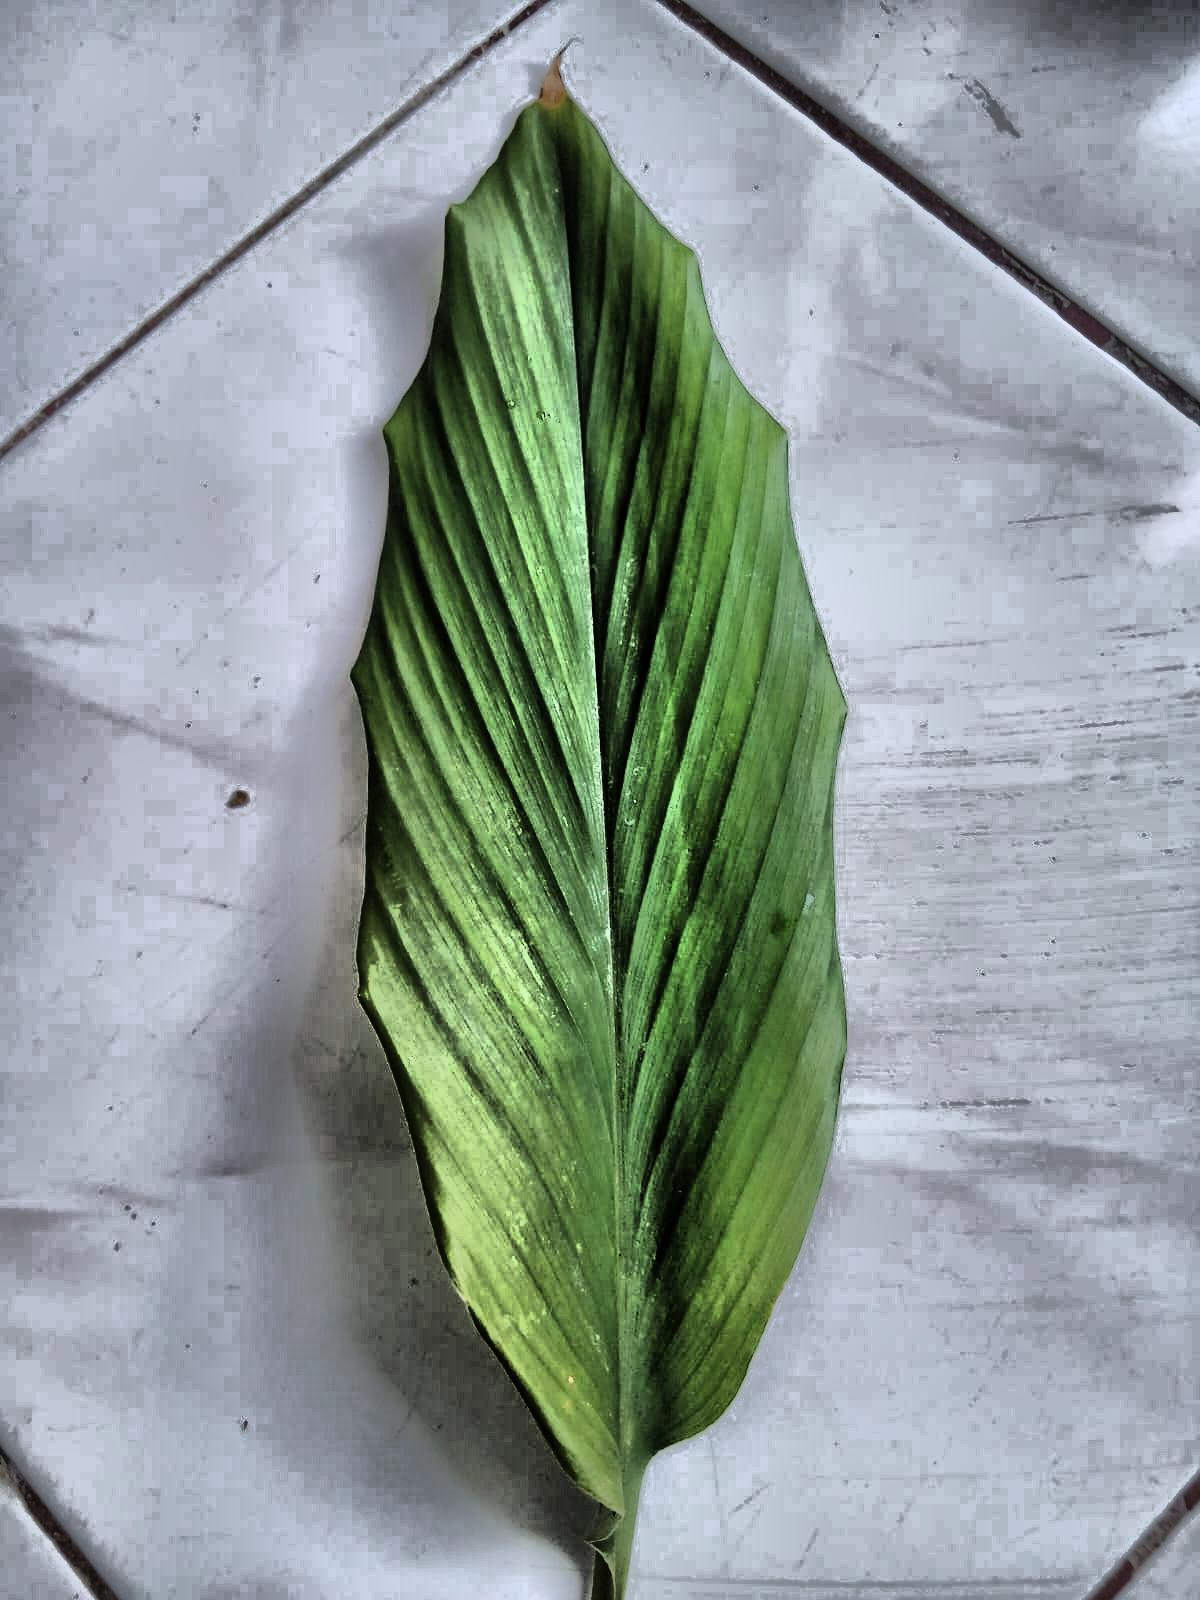daun kunyit: (353, 66, 846, 1599)
